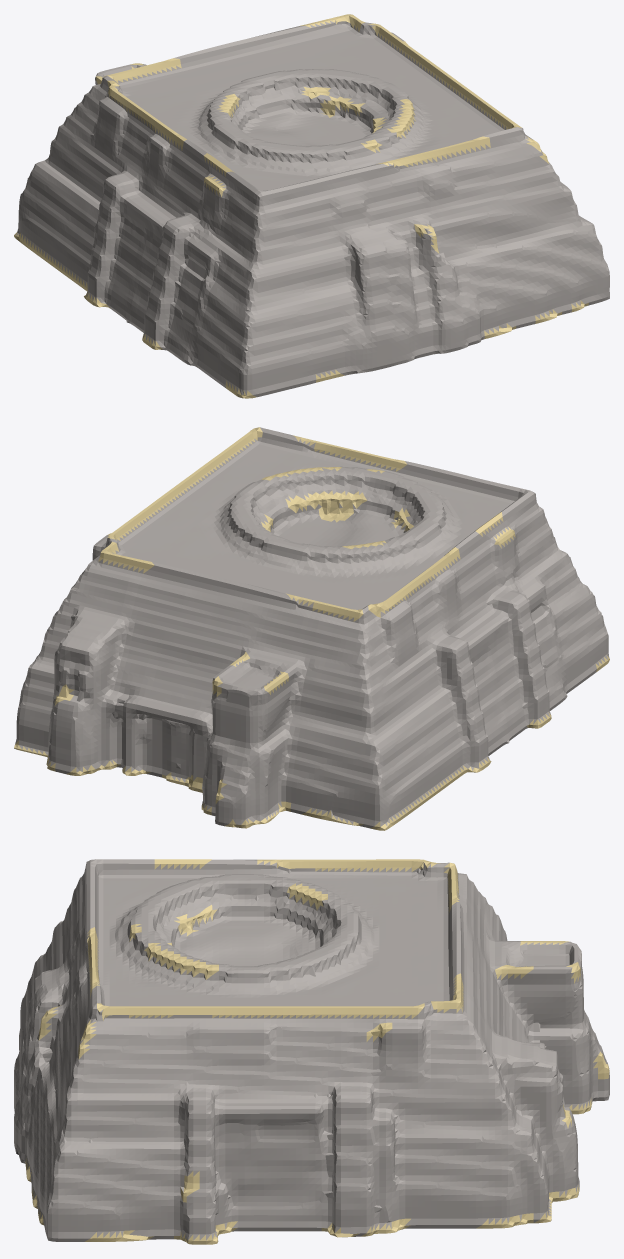
The model's file is bld_doomworks.glb.
The picture shows the model from 3 angles, top to bottom: view 1: azimuth 30°, elevation 25°; view 2: azimuth 150°, elevation 25°; view 3: azimuth 270°, elevation 25°; orthographic projection. The views are drawn at different scales.
Parts seen in each view (by area): view 1: Mesh_0.005; view 2: Mesh_0.005; view 3: Mesh_0.005.
Part boxes in pixels (x1=…): Mesh_0.005: x1=14, y1=14, x2=609, y2=398; Mesh_0.005: x1=14, y1=427, x2=609, y2=830; Mesh_0.005: x1=14, y1=859, x2=609, y2=1244.
Size of the model in its own units: 5.31 by 2.26 by 6.
